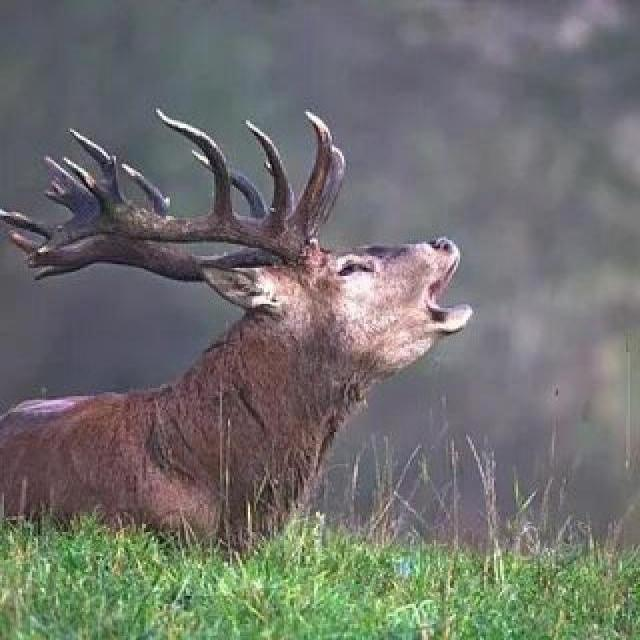deer: (0, 66, 396, 577)
